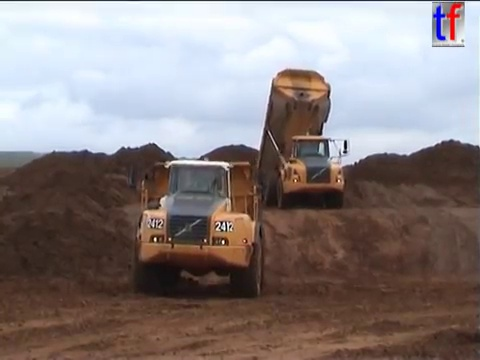truck: (126, 155, 274, 300), (250, 66, 351, 210)
